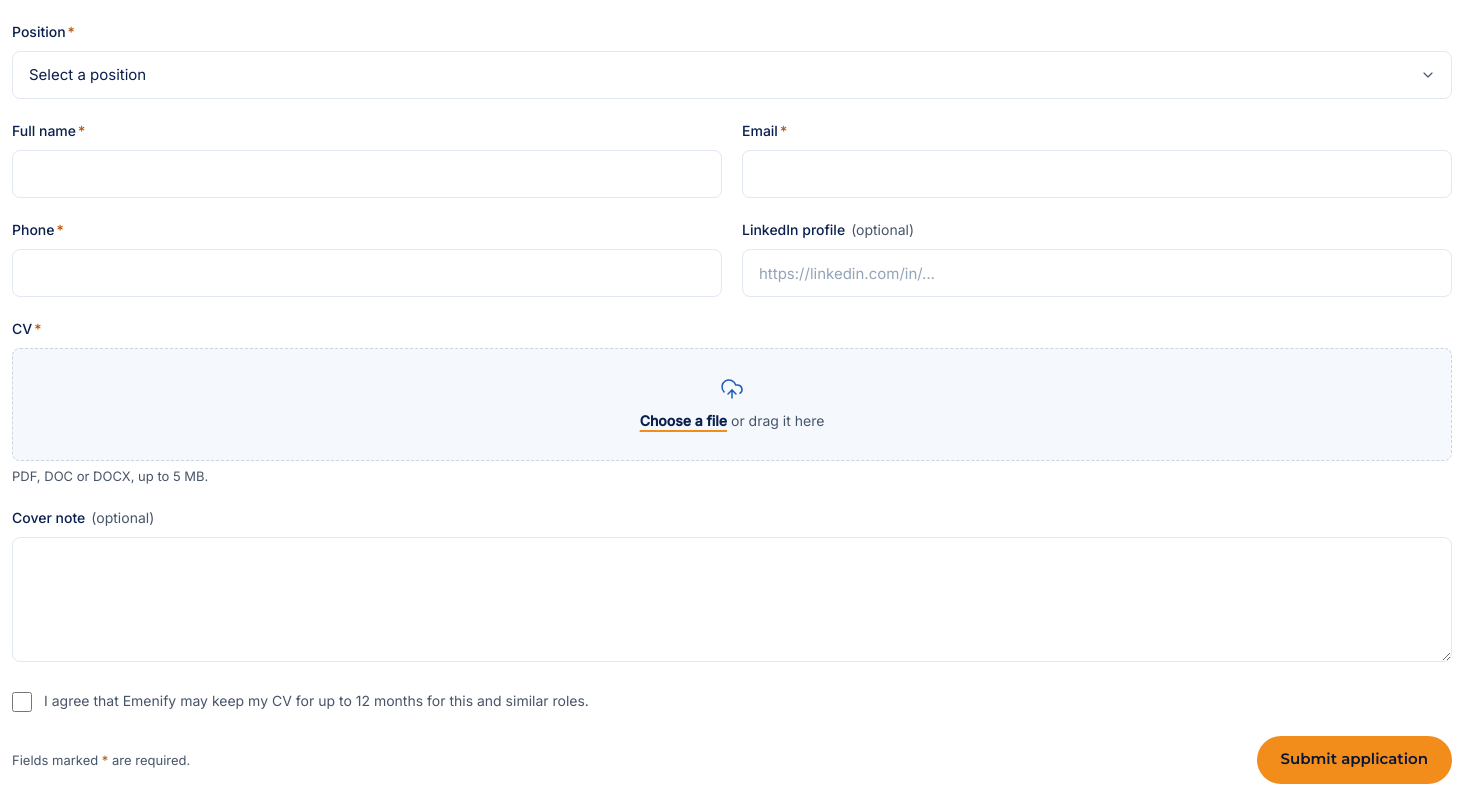
Test case: CareersForm › shows inline errors, including a missing CV
Click the button "Submit application" at (1354, 760), box [1257,736,1452,784]
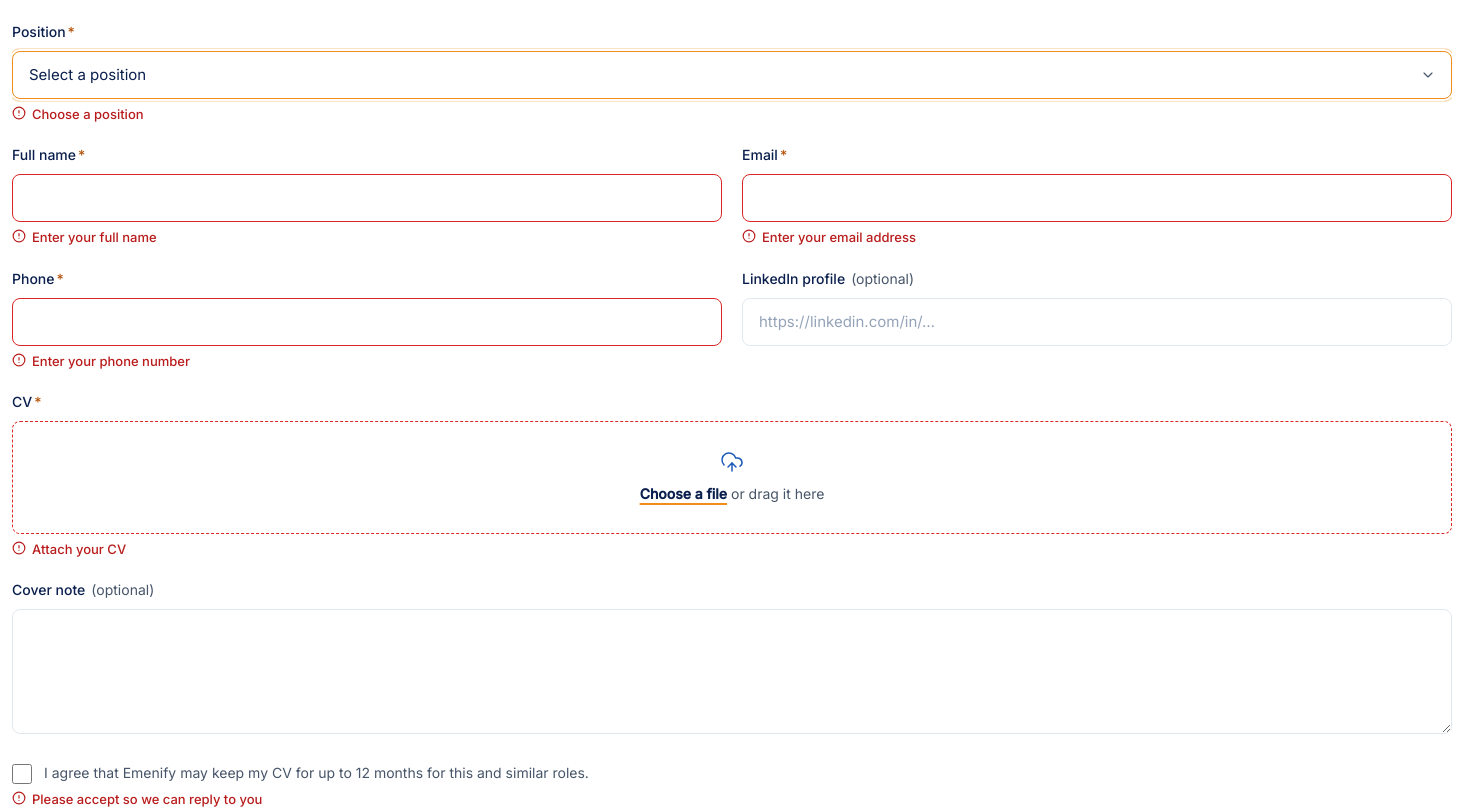
Now the text "Attach your CV" is shown, box [12,541,126,557]
Now the text "Choose a position" is shown, box [12,106,144,122]
Now the text "Enter your full name" is shown, box [12,229,157,245]
